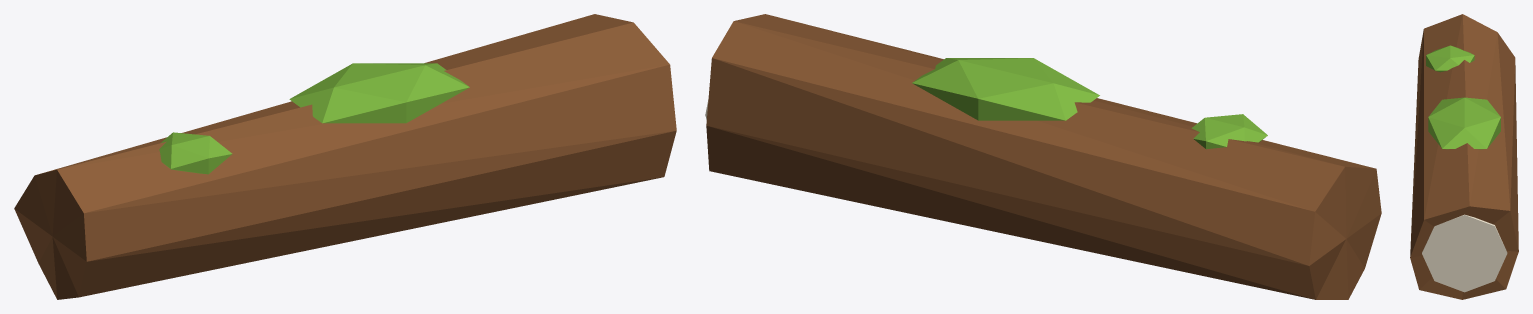
The model's file is tronco_caido.glb.
3 renders of one model, left to right at view 1: azimuth 30°, elevation 25°; view 2: azimuth 150°, elevation 25°; view 3: azimuth 270°, elevation 25°, orthographic. The views are drawn at different scales.
Parts seen in each view (by area): view 1: tronco, musgo, musgo_2; view 2: tronco, musgo, musgo_2; view 3: tronco, corte_1, musgo, musgo_2.
Boxes of the visible parts, x1,y1,x2,y2 form: tronco: (14, 14, 676, 299); musgo: (289, 63, 469, 123); musgo_2: (159, 132, 232, 174); tronco: (706, 14, 1381, 299); musgo: (912, 58, 1099, 120); musgo_2: (1191, 114, 1267, 149); tronco: (1410, 14, 1518, 299); corte_1: (1422, 214, 1507, 292); musgo: (1428, 97, 1500, 149); musgo_2: (1426, 45, 1474, 72).
Size of the model in its own units: 3.25 by 0.8156 by 0.7629.
